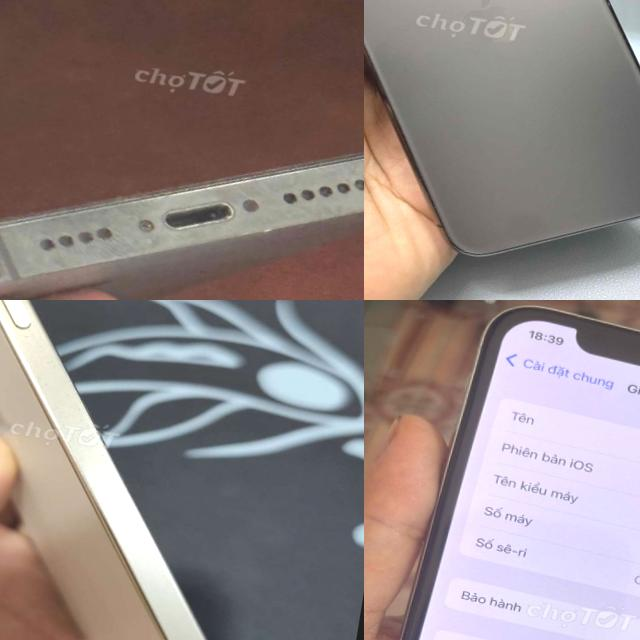gen_11: (364, 0, 640, 294)
gen_14: (0, 38, 364, 300)
gen_15: (0, 300, 318, 640)
gen_x_xs: (400, 306, 640, 640)
scratch: (0, 324, 194, 563), (0, 231, 12, 257)
